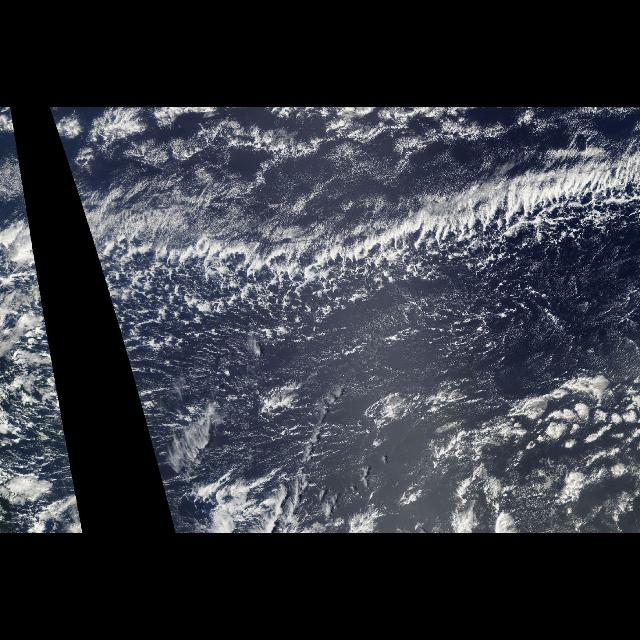Fish: (66, 158, 640, 336), (1, 158, 52, 336)
Sugar: (50, 110, 632, 168), (1, 110, 22, 168)
